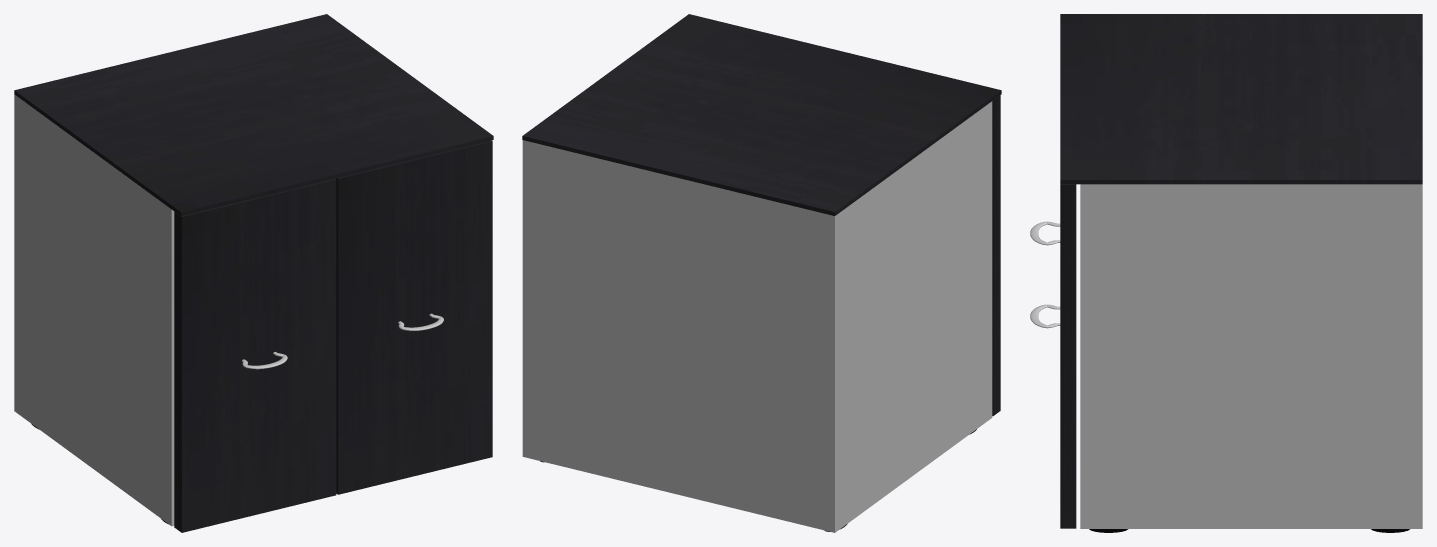
The model's file is sh-lp-mobile90160-w.glb.
The picture shows the model from 3 angles, left to right: view 1: azimuth 30°, elevation 25°; view 2: azimuth 150°, elevation 25°; view 3: azimuth 270°, elevation 25°; orthographic projection. The views are drawn at different scales.
Parts seen in each view (by area): view 1: Box44_3, Line36_1; view 2: Line36_1, Box44_3; view 3: Line36_1, Box44_3.
Boxes of the visible parts, x1=… form: Box44_3: x1=14, y1=14, x2=493, y2=532; Line36_1: x1=14, y1=94, x2=443, y2=526; Line36_1: x1=522, y1=101, x2=992, y2=532; Box44_3: x1=522, y1=14, x2=1001, y2=415; Line36_1: x1=1030, y1=184, x2=1422, y2=528; Box44_3: x1=1060, y1=14, x2=1422, y2=528.
Bounding box in the file's own units: 1 × 1 × 1.
Materials: 3 (1 with a texture image).
